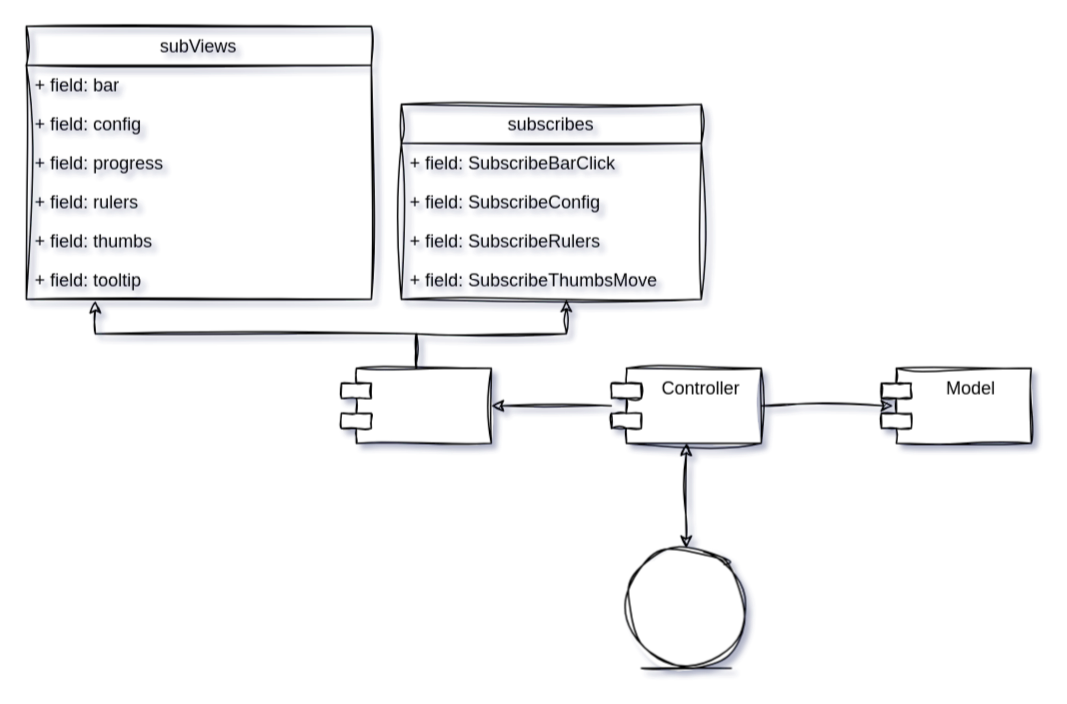
The diagram is 1067 pixels wide and 704 high, and some of its shapes have lost their labels. The centre of each missing label's shape, as x and y in pixels:
Entity Object: point (685, 607)
View: point (415, 405)
